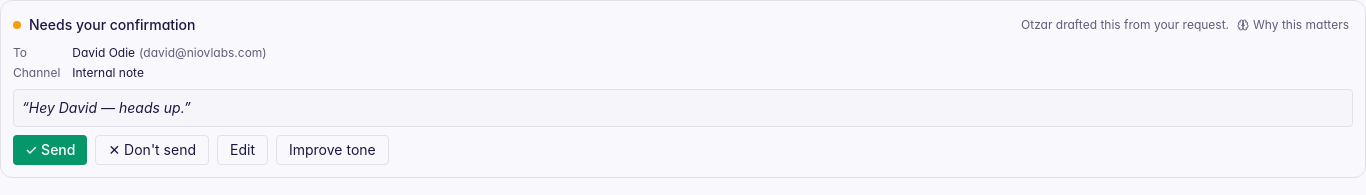
Test: ProposedActionCard — Send hits POST /api/v1/actions and lands sent state › a send that requires approval says 'Submitted for approval' — never 'Sent'
The image size is (1366, 195).
Click the button with test id "ctx-send-button" at (50, 150), box [13, 135, 88, 165]
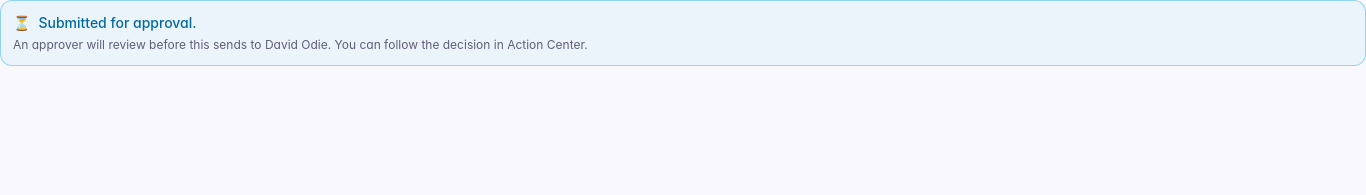
Check: the element with test id "proposed-action-card-submitted" shows "David Odie", box [265, 37, 328, 52]
Check: the element with test id "proposed-action-card-submitted" shows "Submitted for approval", box [38, 14, 197, 31]
Check: the element with test id "proposed-action-card-submitted" shows "An approver will review", box [13, 37, 262, 52]
